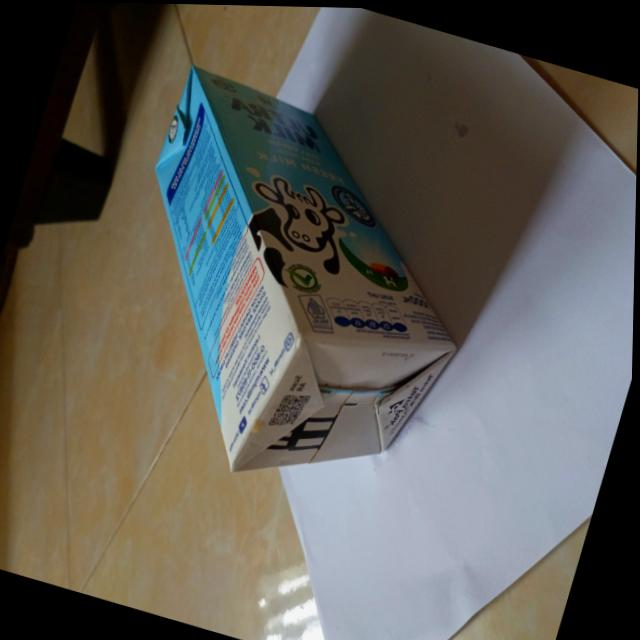indomie-mie-kocok-bandung: (74, 58, 518, 524)
